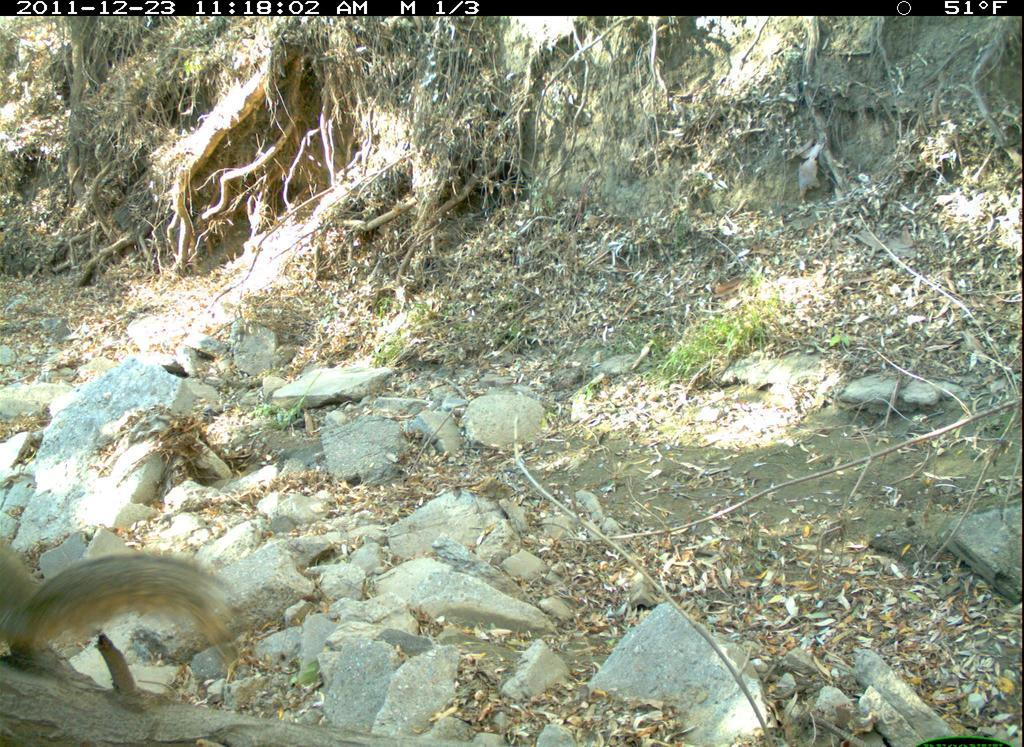squirrel: (2, 532, 241, 680)
